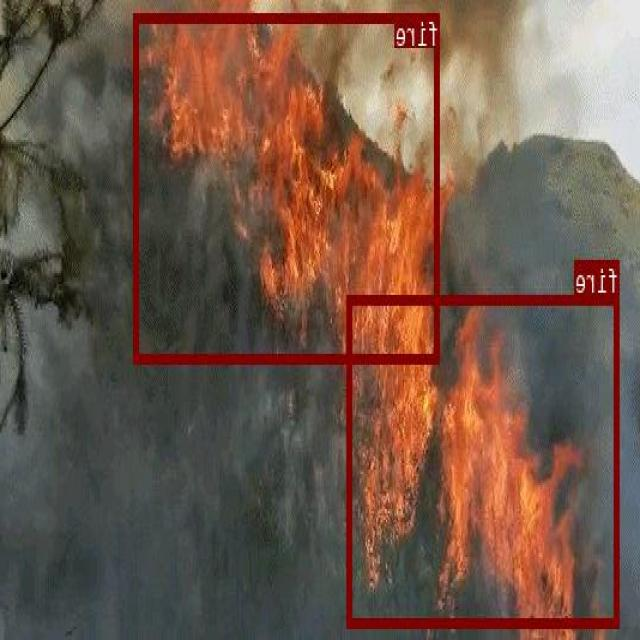fire: (135, 12, 440, 361), (348, 294, 621, 626)
